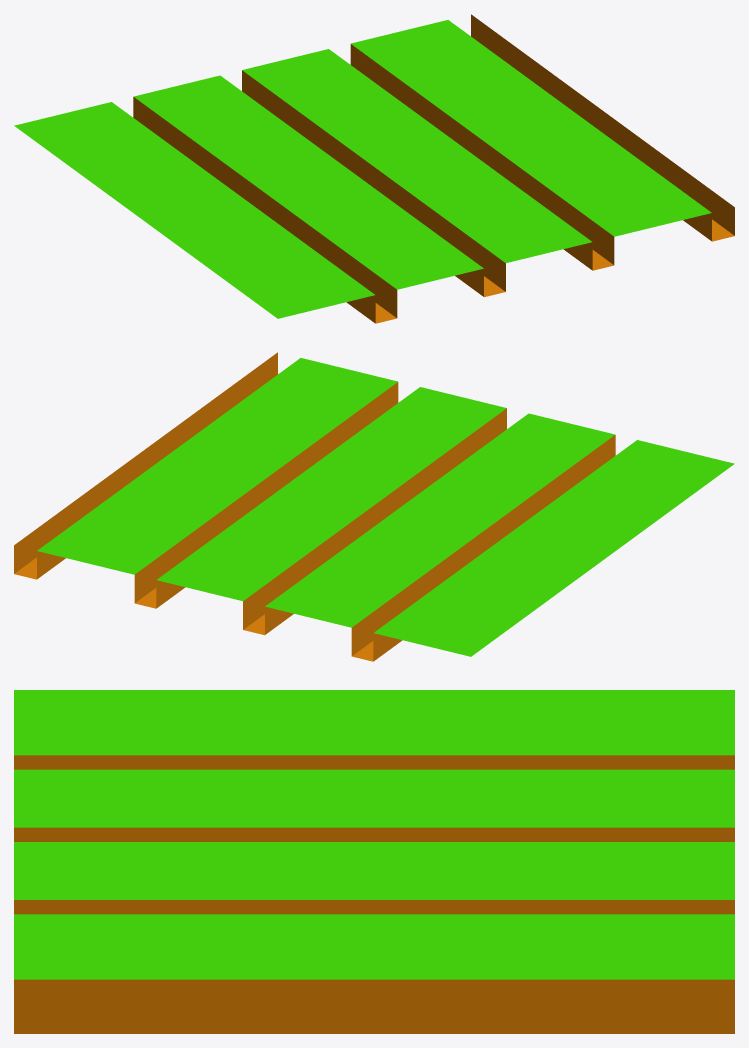
File: Unit_Ceiling.fbx
The picture shows the model from 3 angles, top to bottom: view 1: azimuth 30°, elevation 25°; view 2: azimuth 150°, elevation 25°; view 3: azimuth 270°, elevation 25°; orthographic projection. The views are drawn at different scales.
Parts seen in each view (by area): view 1: Unit_Ceiling; view 2: Unit_Ceiling; view 3: Unit_Ceiling.
Boxes of the visible parts, x1=… form: Unit_Ceiling: x1=14, y1=14, x2=734, y2=323; Unit_Ceiling: x1=14, y1=352, x2=734, y2=661; Unit_Ceiling: x1=14, y1=690, x2=734, y2=1033.
Size of the model in its own units: 2 by 0.12 by 2.
